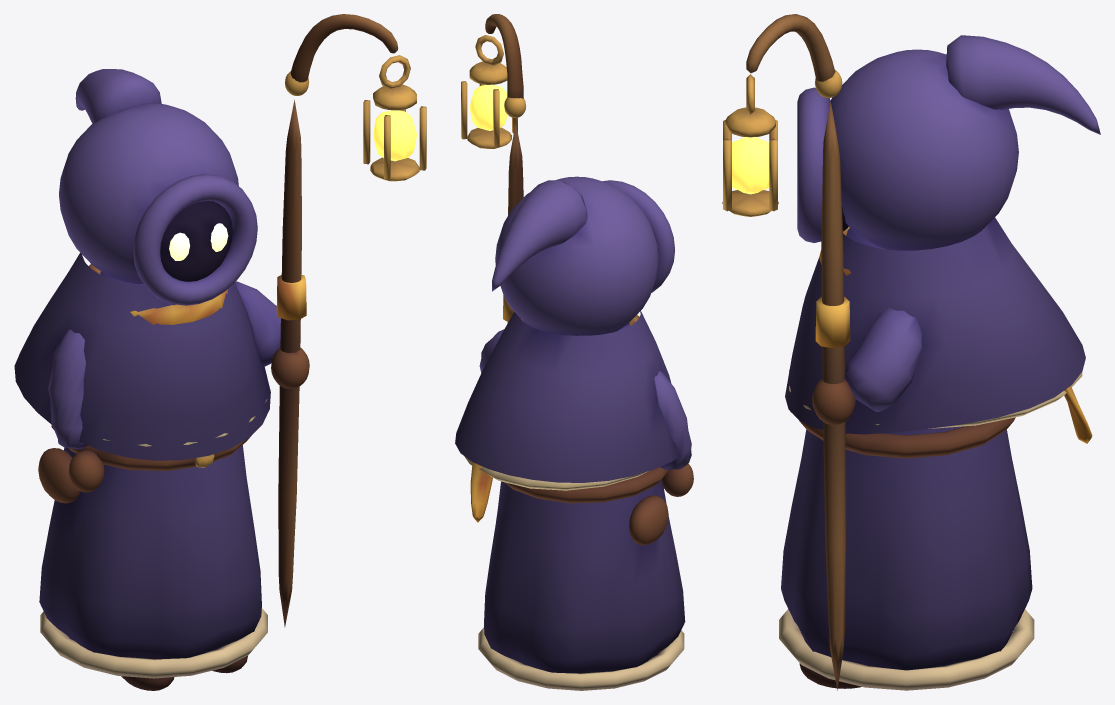
Rendered from bearer.glb.
3 views of the same model, side by side, from view 1: azimuth 30°, elevation 25°; view 2: azimuth 150°, elevation 25°; view 3: azimuth 270°, elevation 25° (orthographic). The views are drawn at different scales.
Visible parts, largest first — view 1: Body, Cape, Head, Staff, LanternCage, LanternGlass, HeadEyes; view 2: Body, Cape, Head, Staff, LanternCage, LanternGlass; view 3: Body, Head, Cape, Staff, LanternCage, LanternGlass.
Boxes of the visible parts, left/top/right/bottom form: Body: left=38, top=264, right=309, bottom=678; Cape: left=14, top=252, right=270, bottom=460; Head: left=59, top=69, right=257, bottom=305; Staff: left=276, top=14, right=398, bottom=627; LanternCage: left=363, top=55, right=426, bottom=181; LanternGlass: left=373, top=110, right=416, bottom=161; HeadEyes: left=169, top=223, right=228, bottom=260; Body: left=478, top=315, right=693, bottom=690; Cape: left=455, top=311, right=680, bottom=522; Head: left=492, top=176, right=674, bottom=335; Staff: left=485, top=14, right=526, bottom=322; LanternCage: left=461, top=35, right=517, bottom=148; LanternGlass: left=469, top=84, right=507, bottom=130; Body: left=779, top=227, right=1034, bottom=690; Head: left=797, top=35, right=1100, bottom=250; Cape: left=785, top=217, right=1092, bottom=443; Staff: left=746, top=14, right=850, bottom=690; LanternCage: left=722, top=74, right=778, bottom=216; LanternGlass: left=732, top=137, right=769, bottom=194.
Size of the model in its own units: 1.08 by 2.2 by 1.04.
